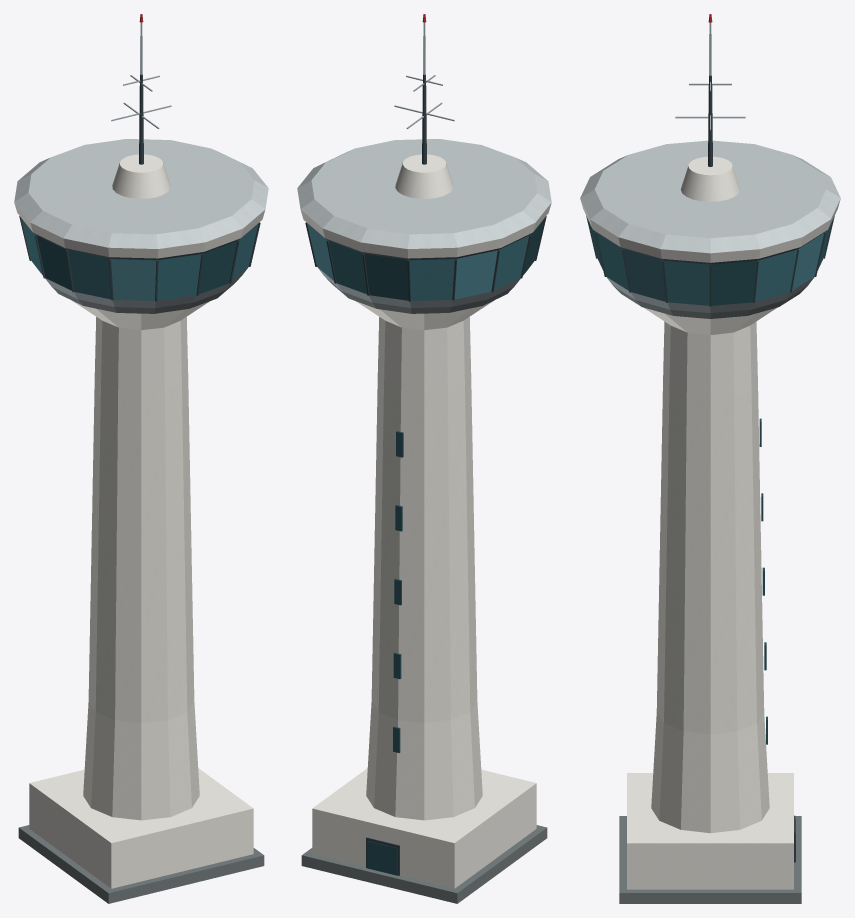
File: CMN_tower.glb
The picture shows the model from 3 angles, left to right: view 1: azimuth 30°, elevation 25°; view 2: azimuth 150°, elevation 25°; view 3: azimuth 270°, elevation 25°; orthographic projection.
Visible parts, largest first — view 1: CMN_tower; view 2: CMN_tower; view 3: CMN_tower.
Boxes of the visible parts, <box> form: CMN_tower: <box>14,14,268,903</box>; CMN_tower: <box>297,14,551,903</box>; CMN_tower: <box>580,14,840,903</box>.
Size of the model in its own units: 20 by 72 by 20.
Materials: 9 (9 with a texture image).
